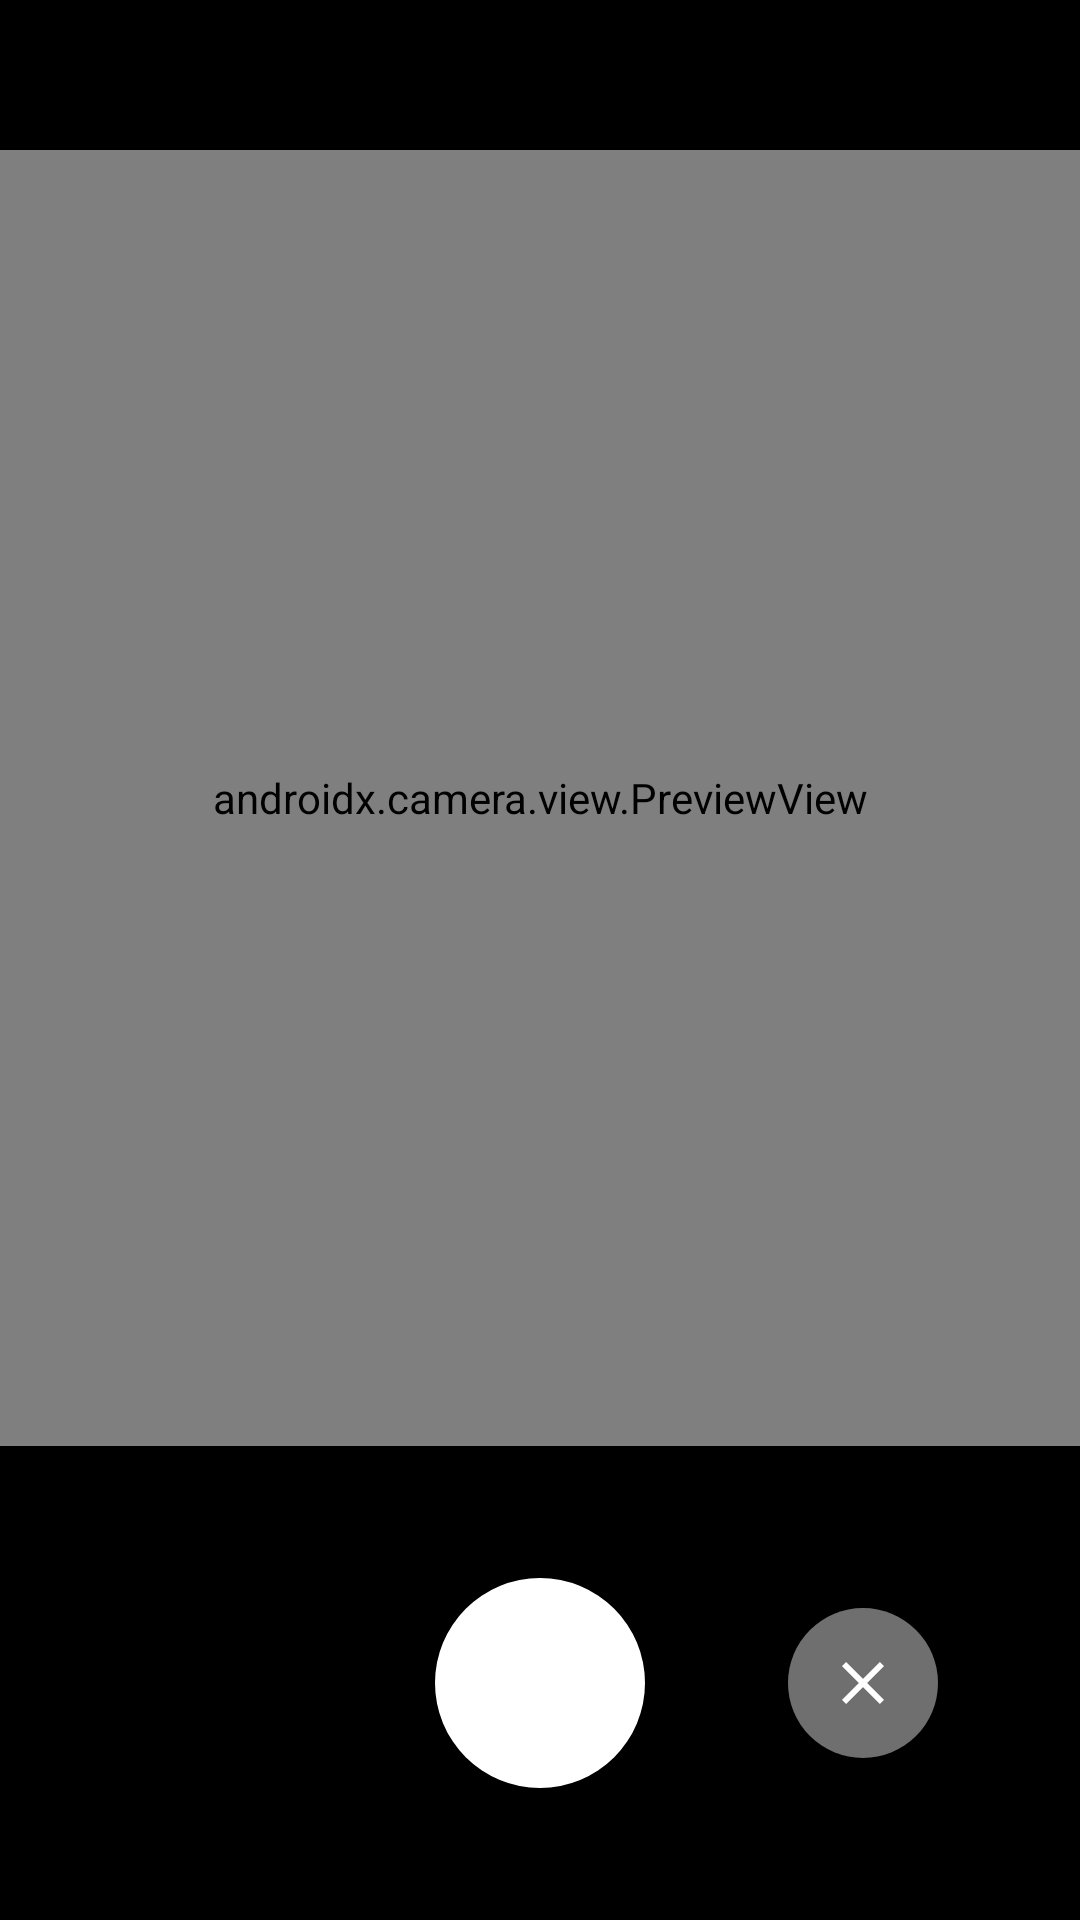

Screen size 1080*1920. Icon name, then its center in pixels as [x,y]:
close: [863,1683]
